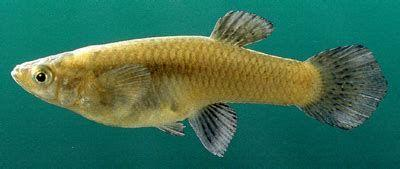Mosquito Fish: (10, 7, 391, 157)
